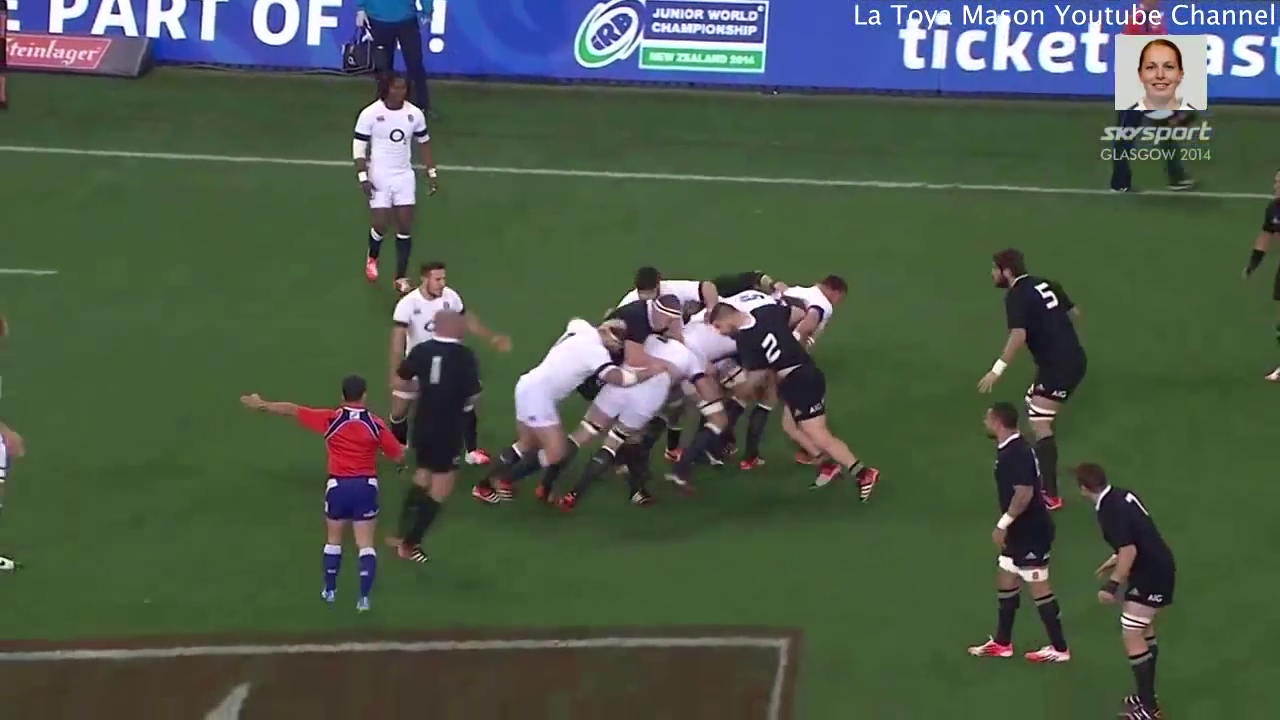maul: (556, 264, 905, 525)
player: (230, 371, 421, 625), (701, 292, 888, 510), (537, 315, 728, 527), (963, 233, 1102, 520), (462, 302, 635, 517), (961, 400, 1089, 675), (1061, 446, 1185, 720), (379, 300, 491, 589), (344, 68, 447, 308), (370, 254, 521, 392), (603, 259, 717, 325), (597, 291, 686, 357), (777, 263, 854, 339)
